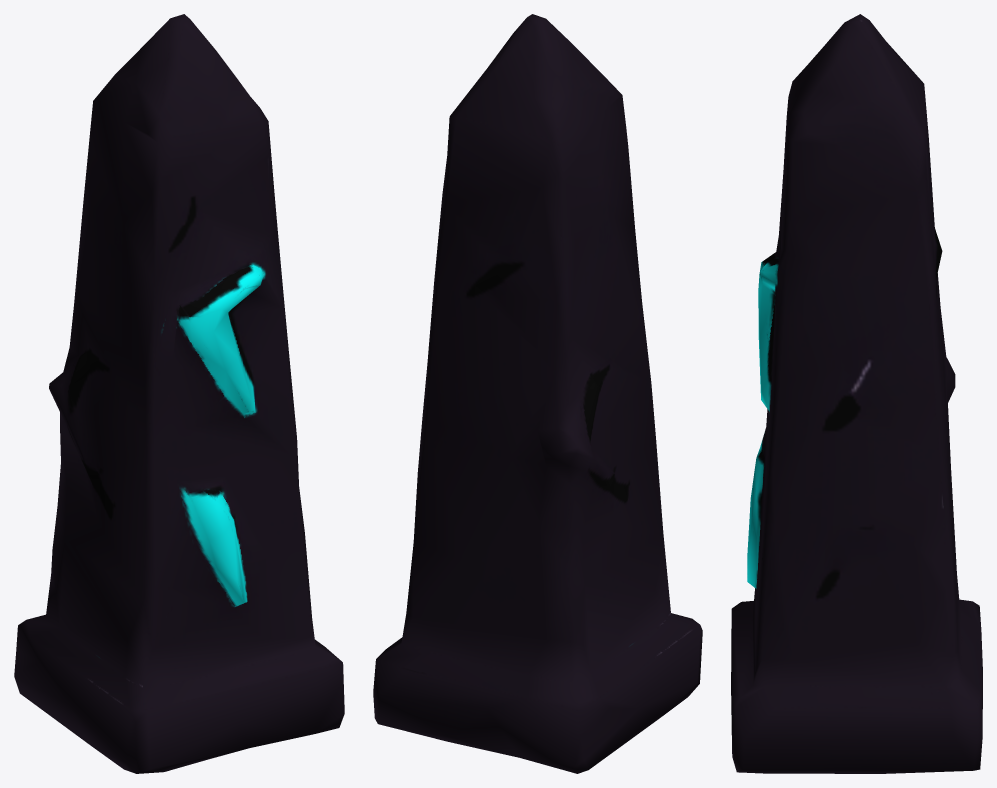
The model's file is non-euclid-obelisk.glb.
3 views of the same model, side by side, from view 1: azimuth 30°, elevation 25°; view 2: azimuth 150°, elevation 25°; view 3: azimuth 270°, elevation 25° (orthographic). The views are drawn at different scales.
Parts seen in each view (by area): view 1: geometry_0.001; view 2: geometry_0.001; view 3: geometry_0.001.
Boxes of the visible parts, bbox=[...] form: geometry_0.001: bbox=[14, 14, 344, 773]; geometry_0.001: bbox=[373, 14, 702, 773]; geometry_0.001: bbox=[731, 14, 982, 773].
Size of the model in its own units: 0.323 by 0.9964 by 0.3224.
1 material, 1 textured.
